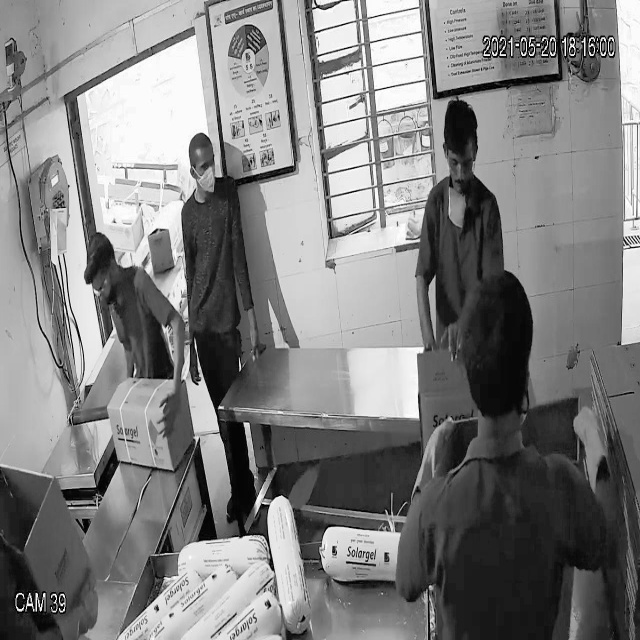Gafas: (441, 138, 480, 188)
